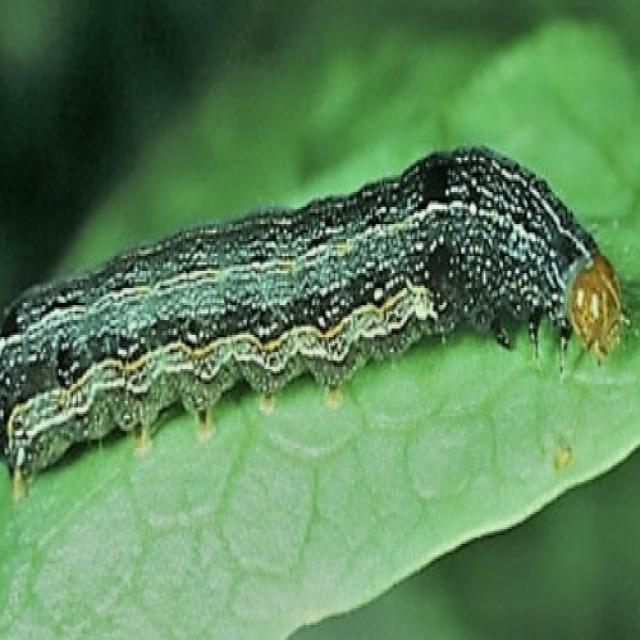armyworm: (0, 141, 630, 501)
